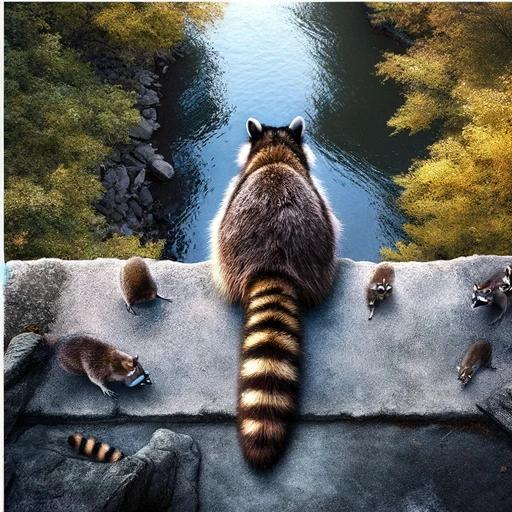raccoon: (201, 108, 348, 482), (60, 426, 129, 469), (467, 262, 511, 327)
